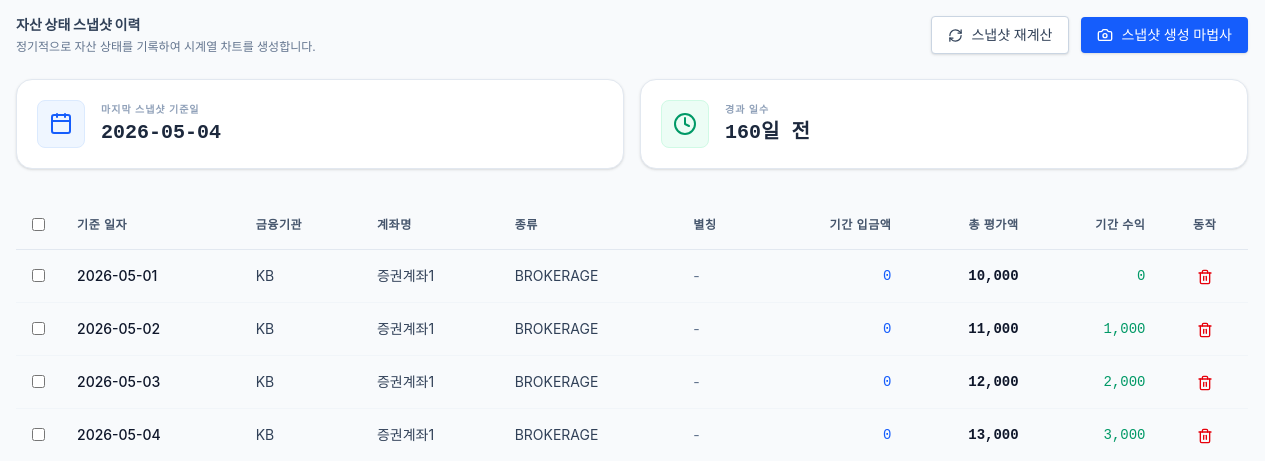
Test case: SnapshotsTab Component › 스냅샷 다중 선택 및 일괄 삭제 › Shift + 클릭으로 범위 내 모든 행이 일괄 선택되어야 한다
This screenshot has width=1265, height=461.
index 0 클릭 (시작 지점)
Click the checkbox named "행 선택". click: [38, 276]
box: [32,269,45,282]
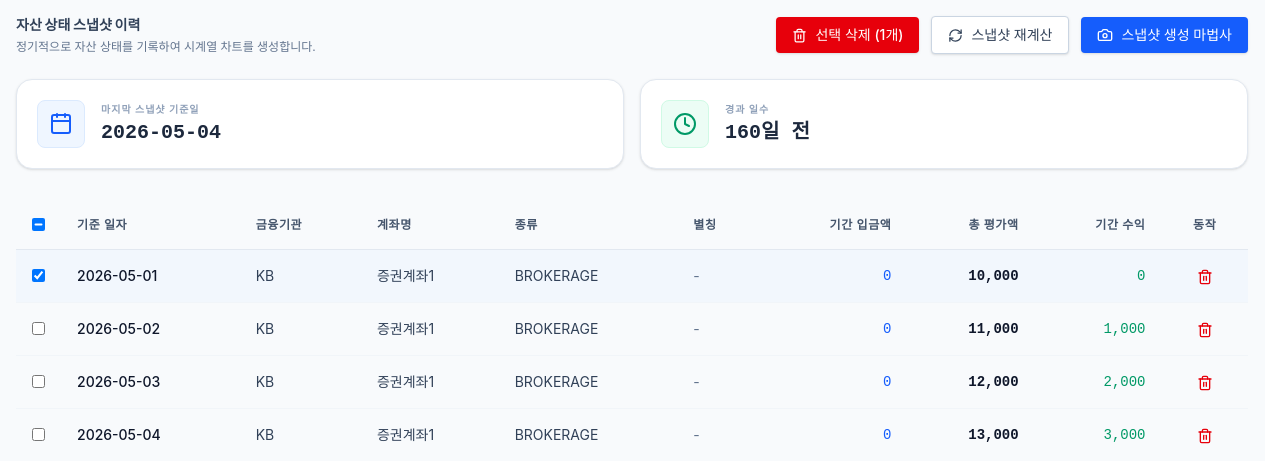
Expected: the checkbox named "행 선택" is checked, [32,269,45,282]
index 2를 Shift 키를 누른 채 클릭 (범위: 0, 1, 2)
Click the checkbox named "행 선택". click: [38, 382]
box: [32,375,45,388]
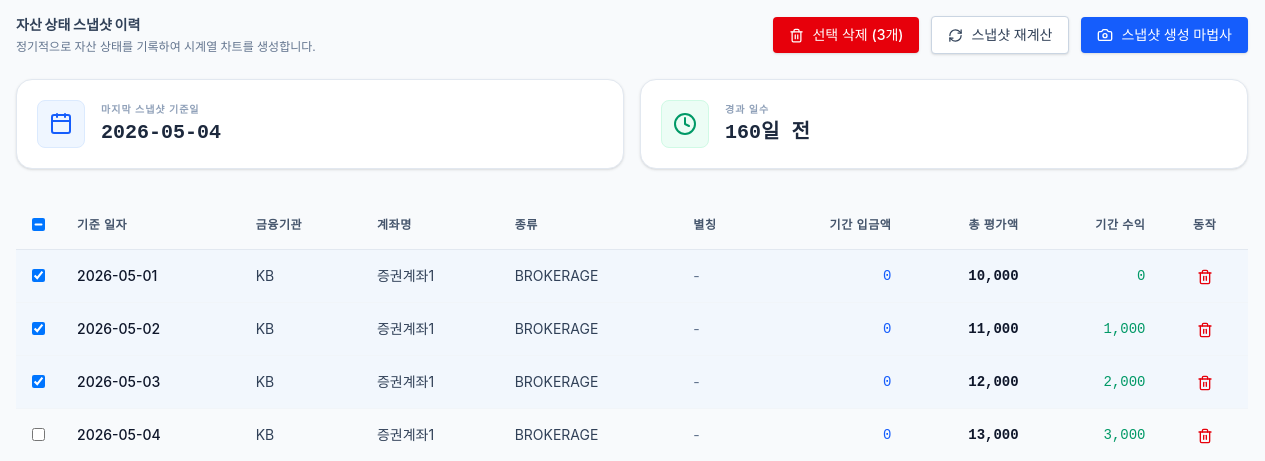
Expected: the checkbox named "행 선택" is not checked, [32,428,45,441]
Expected: the checkbox named "행 선택" is checked, [32,269,45,282]
Expected: the button "선택 삭제 (3개)" is shown, [774,17,920,53]
